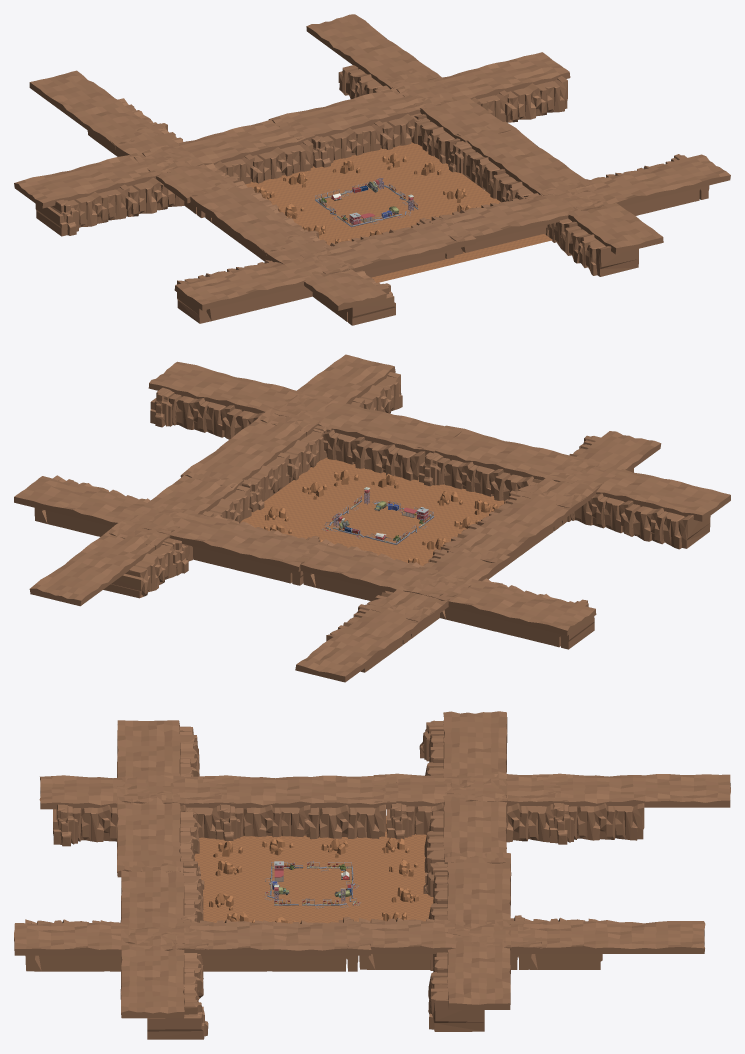
File: MilitaryBaseScene.fbx
The picture shows the model from 3 angles, top to bottom: view 1: azimuth 30°, elevation 25°; view 2: azimuth 150°, elevation 25°; view 3: azimuth 270°, elevation 25°; orthographic projection. The views are drawn at different scales.
Visible parts, largest first — view 1: Plane; view 2: Plane; view 3: Plane.
Boxes of the visible parts, x1,y1,x2,y2 form: Plane: (14, 14, 730, 325); Plane: (14, 354, 730, 682); Plane: (14, 711, 730, 1039).
Size of the model in its own units: 468 by 25.59 by 472.
Materials: 44 (3 with a texture image).
